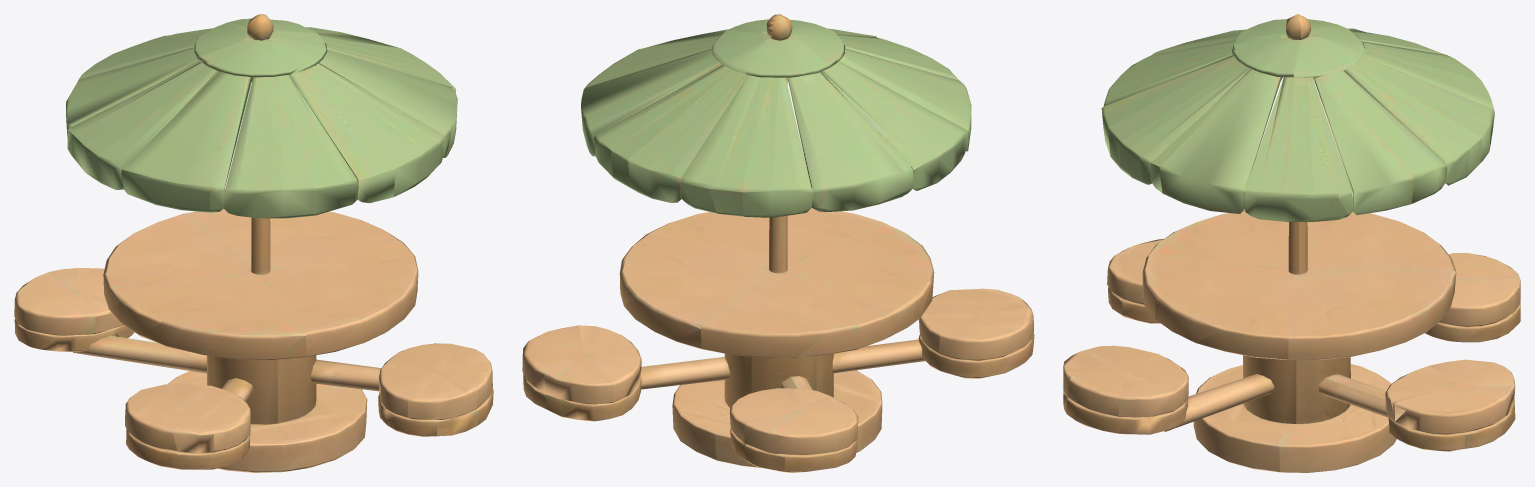
The model's file is parasol.glb.
3 views of the same model, side by side, from view 1: azimuth 30°, elevation 25°; view 2: azimuth 150°, elevation 25°; view 3: azimuth 270°, elevation 25° (orthographic).
Size of the model in its own units: 0.9199 by 0.998 by 1.
Materials: 1 (1 with a texture image).
